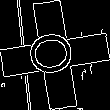O_E: (27, 30, 83, 80)
